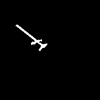double_crochet: (16, 25, 46, 50)
